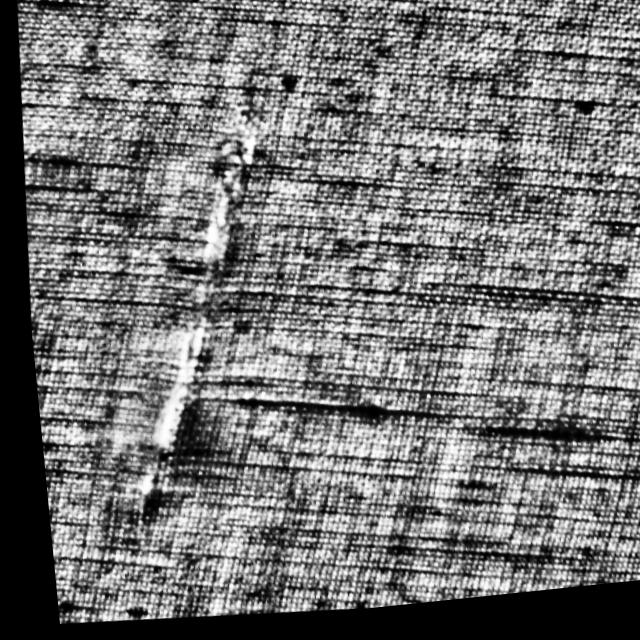Stitch: (97, 120, 288, 542)
